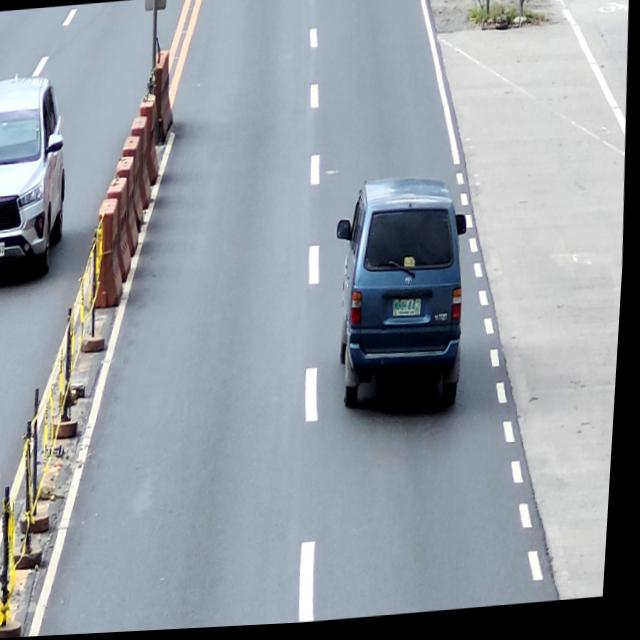Car: (329, 175, 478, 416), (0, 68, 76, 280)
License-Plate: (395, 299, 426, 323), (0, 239, 10, 260)
